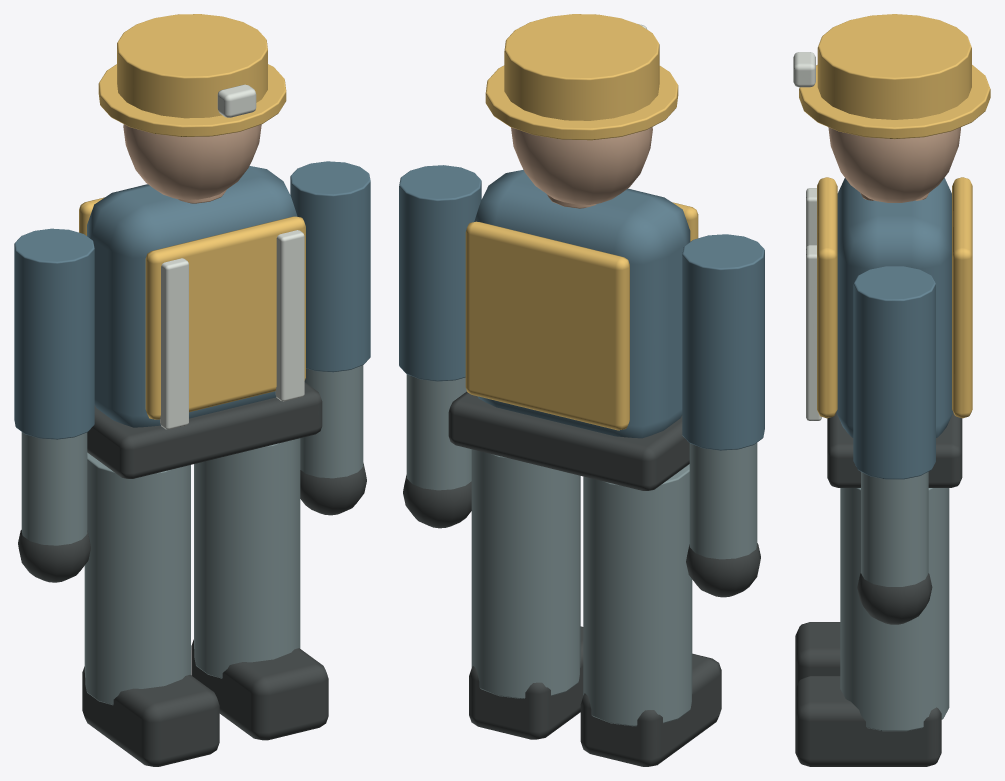
Rendered from Character_ServiceWorker.fbx.
3 views of the same model, side by side, from view 1: azimuth 30°, elevation 25°; view 2: azimuth 150°, elevation 25°; view 3: azimuth 270°, elevation 25° (orthographic). The views are drawn at different scales.
Visible parts, largest first — view 1: Trouser leg, Trouser leg.001, Torso work jacket, Safety vest front, Sleeve, Sleeve.001, Hard hat crown, Tool belt, Boot, Boot.001, Head, Forearm (+7 smaller); view 2: Safety vest rear, Trouser leg, Trouser leg.001, Torso work jacket, Sleeve, Sleeve.001, Hard hat crown, Tool belt, Head, Forearm, Boot, Forearm.001 (+4 smaller); view 3: Sleeve.001, Trouser leg.001, Hard hat crown, Torso work jacket, Boot.001, Forearm.001, Head, Safety vest front, Safety vest rear, Hard hat brim, Tool belt, Glove.001 (+4 smaller).
Part boxes in pixels (<box>): Trouser leg: <box>84,452,190,705</box>; Trouser leg.001: <box>194,438,300,678</box>; Torso work jacket: <box>87,166,297,427</box>; Safety vest front: <box>145,216,305,419</box>; Sleeve: <box>14,228,94,439</box>; Sleeve.001: <box>290,161,370,372</box>; Hard hat crown: <box>117,14,267,118</box>; Tool belt: <box>87,382,322,478</box>; Boot: <box>82,666,219,766</box>; Boot.001: <box>191,639,328,740</box>; Head: <box>123,124,261,200</box>; Forearm: <box>21,432,87,545</box>; Safety vest rear: <box>465,221,629,430</box>; Trouser leg: <box>583,464,692,726</box>; Trouser leg.001: <box>471,449,580,698</box>; Torso work jacket: <box>474,169,690,438</box>; Sleeve: <box>682,234,764,450</box>; Sleeve.001: <box>399,165,481,381</box>; Hard hat crown: <box>504,14,659,120</box>; Tool belt: <box>448,391,689,490</box>; Head: <box>511,127,652,204</box>; Forearm: <box>689,443,757,559</box>; Boot: <box>580,653,721,766</box>; Forearm.001: <box>406,374,471,490</box>; Sleeve.001: <box>853,266,935,479</box>; Trouser leg.001: <box>840,488,949,731</box>; Hard hat crown: <box>817,14,971,119</box>; Torso work jacket: <box>836,178,952,437</box>; Boot.001: <box>795,676,941,766</box>; Forearm.001: <box>861,472,928,586</box>; Head: <box>828,127,960,202</box>; Safety vest front: <box>817,177,837,418</box>; Safety vest rear: <box>952,177,972,418</box>; Hard hat brim: <box>799,65,990,139</box>; Tool belt: <box>827,412,962,487</box>; Glove.001: <box>857,573,932,624</box>.
Bounding box in the file's own units: 1.07 × 2 × 0.525.
